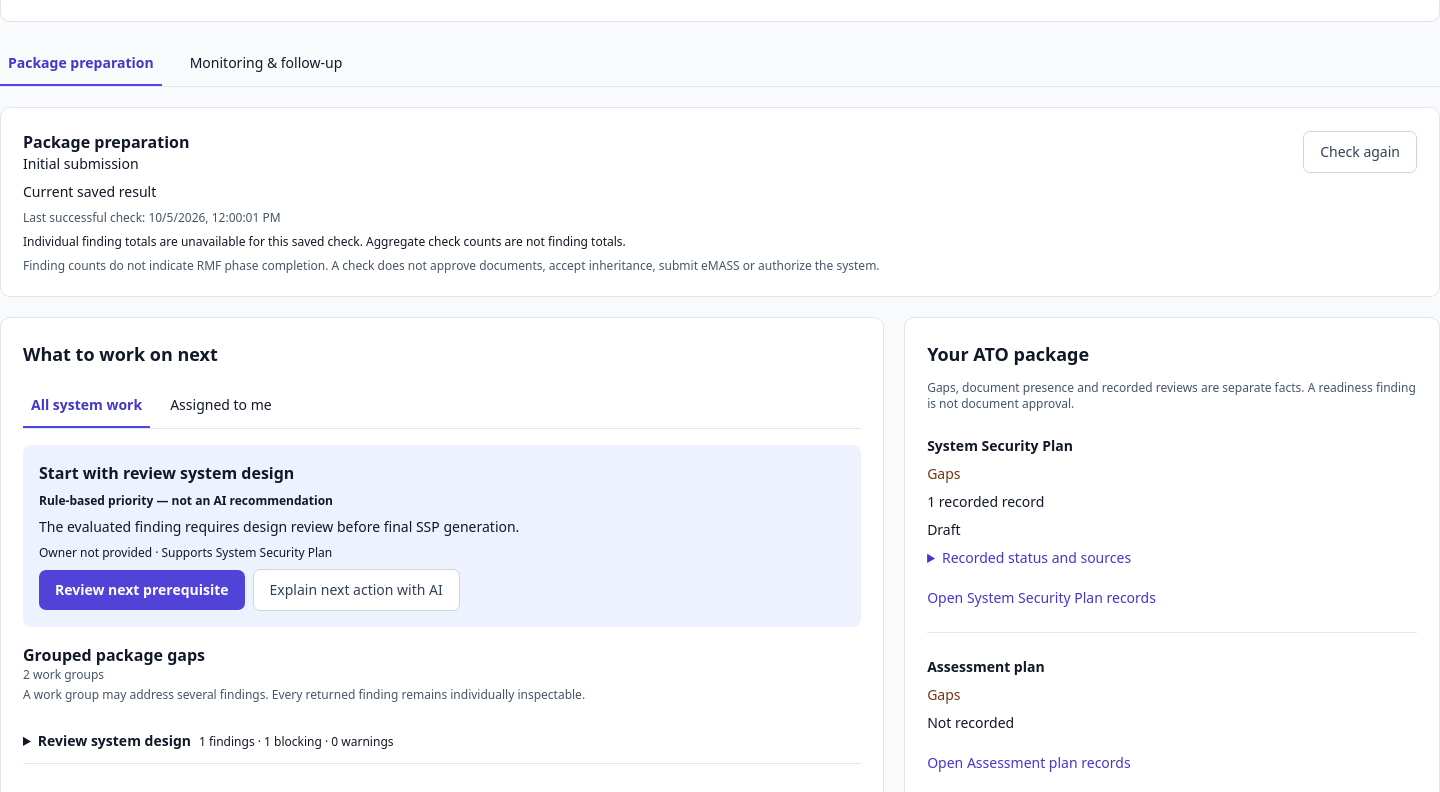
it: RMF journey overview › filters personal work by the server assignment projection, not system roles
(page scrolled)
Expected: the text "2 work groups" is shown, [23,666,104,682]
Click the tab "Assigned to me" at (221, 406), box [162,384,280,428]
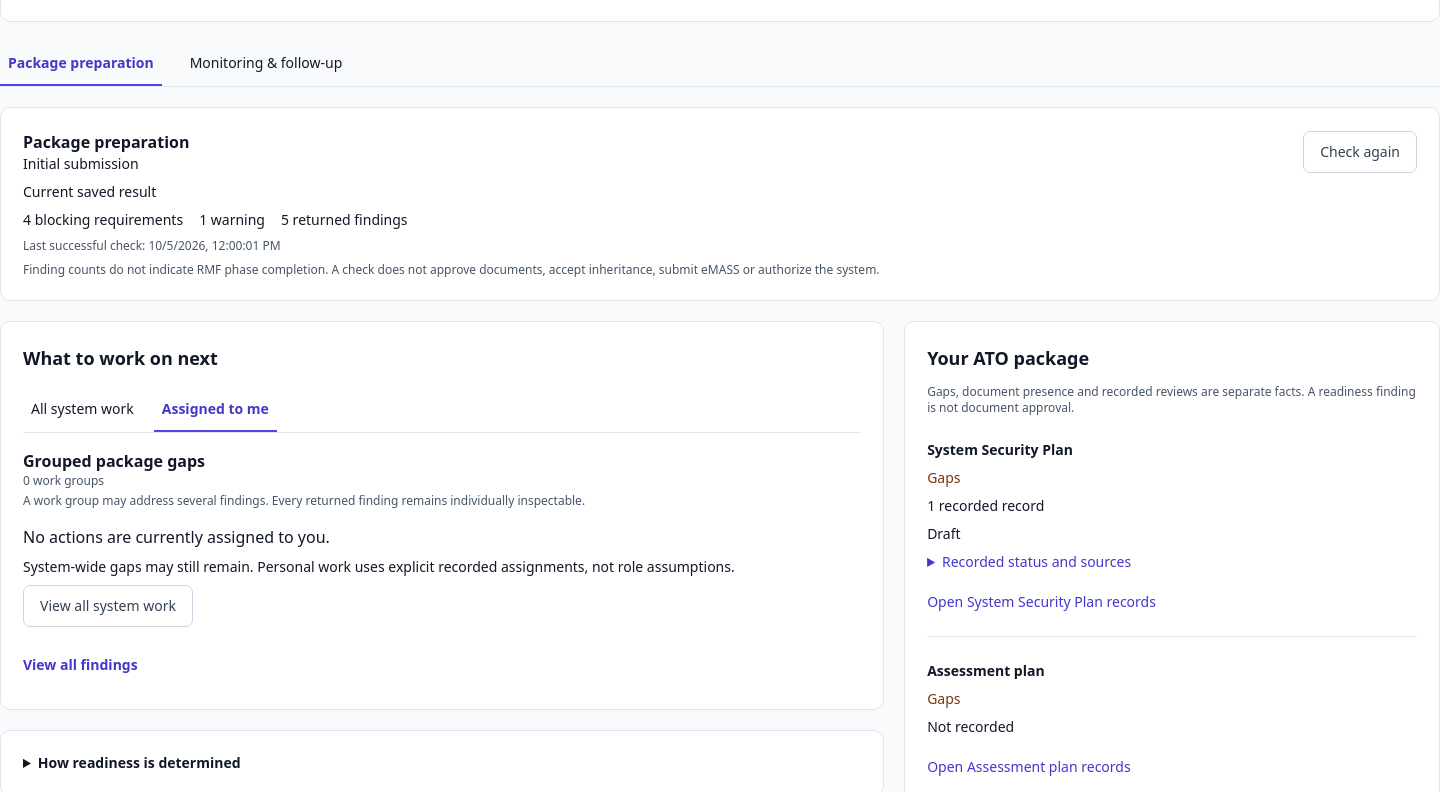
Expected: the text "No actions are currently assigned to you." is shown, [23,526,330,548]
Expected: the text "System-wide gaps may still remain" is shown, [23,556,735,576]
Expected: the button "View all system work" is shown, [23,584,193,626]
